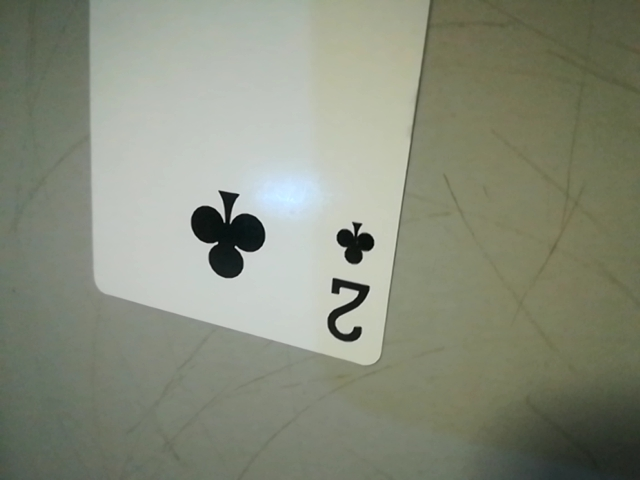mh 2: (314, 207, 387, 357)
